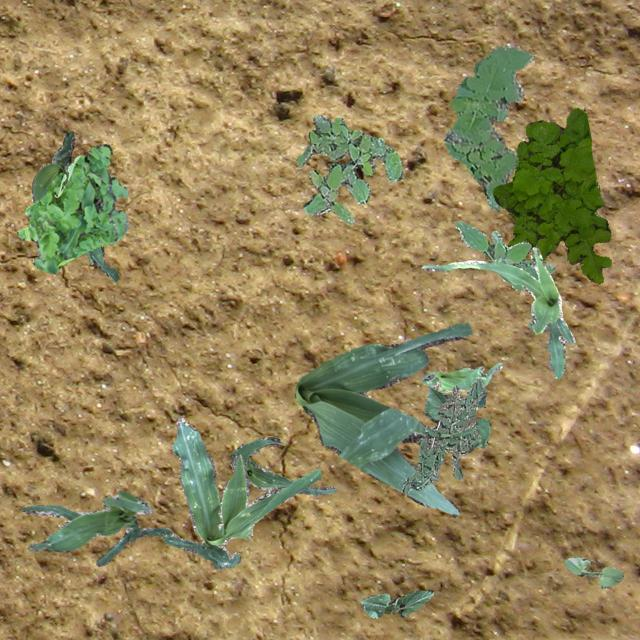crop: (294, 322, 471, 516), (162, 416, 321, 568), (421, 245, 574, 378), (31, 130, 118, 280), (18, 490, 172, 566), (230, 436, 336, 494), (422, 384, 490, 446), (421, 362, 502, 392), (360, 588, 432, 616), (564, 556, 622, 588)
weed: (492, 106, 610, 282), (442, 44, 532, 210), (17, 144, 126, 272), (296, 113, 402, 224), (400, 378, 486, 493), (454, 220, 554, 290)
